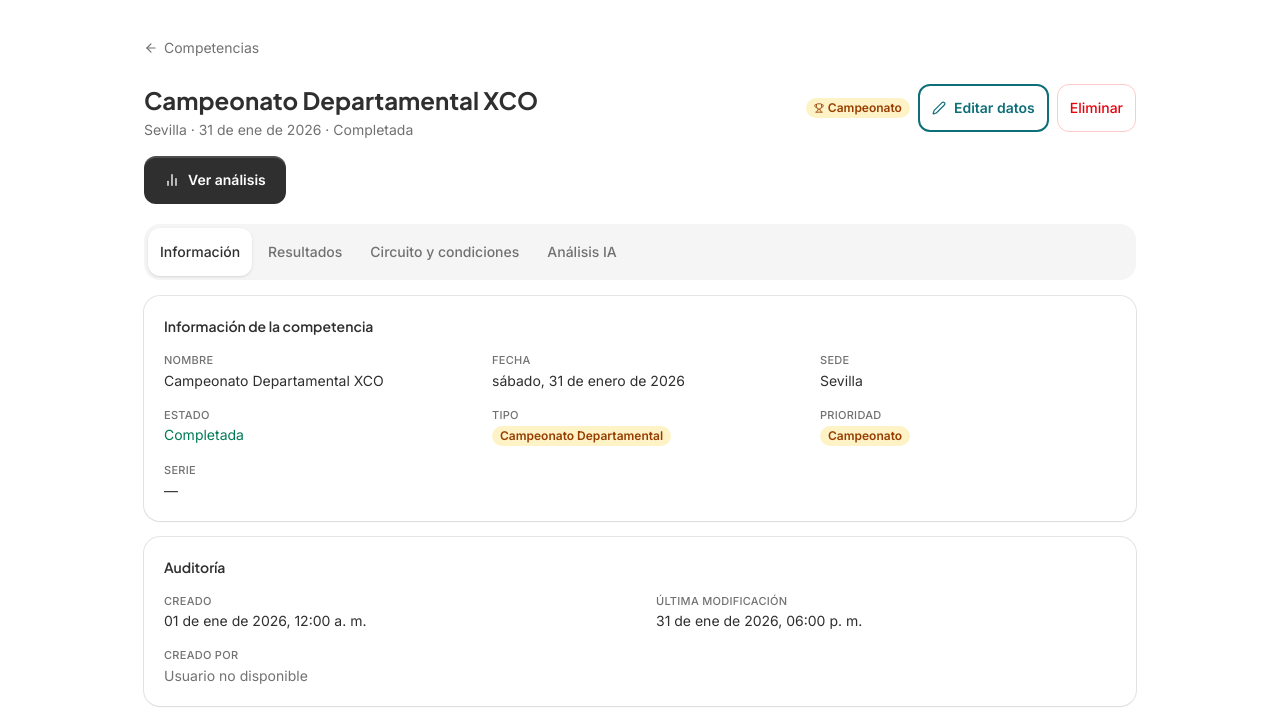
Test: CompetitionDetailPage — delete admin › un campeonato dice «Eliminar campeonato» y «El campeonato se eliminará…», nunca «válida»
Expected: the heading "Campeonato Departamental XCO" is shown, [144, 84, 538, 116]
Click the button with test id "btn-delete". click: [1096, 108]
box: [1057, 84, 1136, 132]
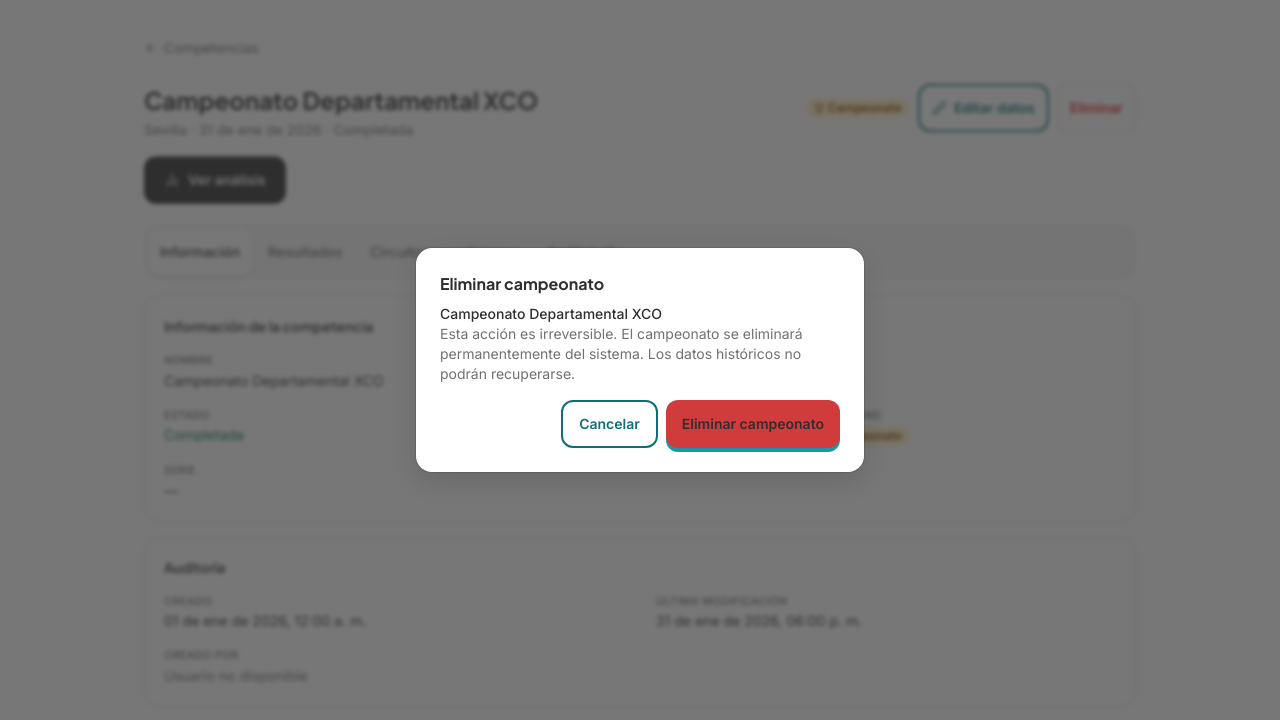
Expected: the dialog "Eliminar campeonato" does not show "válida", [416, 248, 864, 472]
Expected: the dialog "Eliminar campeonato" shows "El campeonato se eliminará", [440, 325, 803, 382]
Expected: the button "Eliminar campeonato" is shown, [666, 400, 840, 448]
